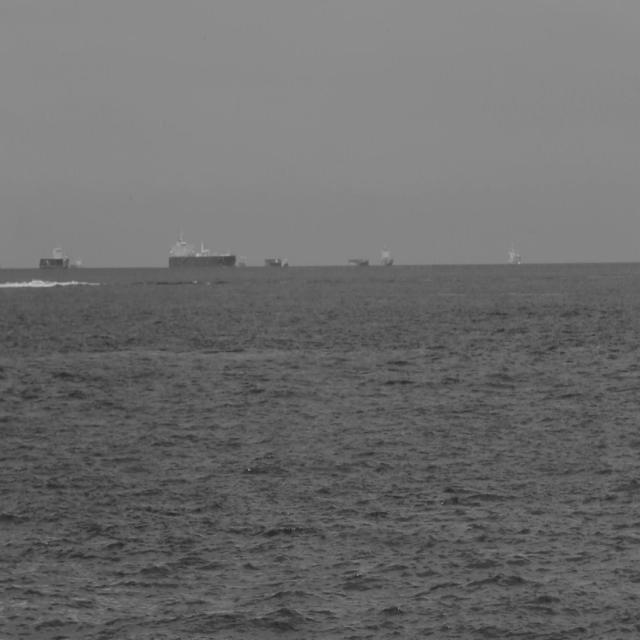ship: (168, 228, 236, 269), (38, 240, 70, 270), (506, 240, 522, 265), (379, 242, 394, 267), (347, 254, 370, 267), (264, 255, 282, 267), (282, 256, 289, 266)
